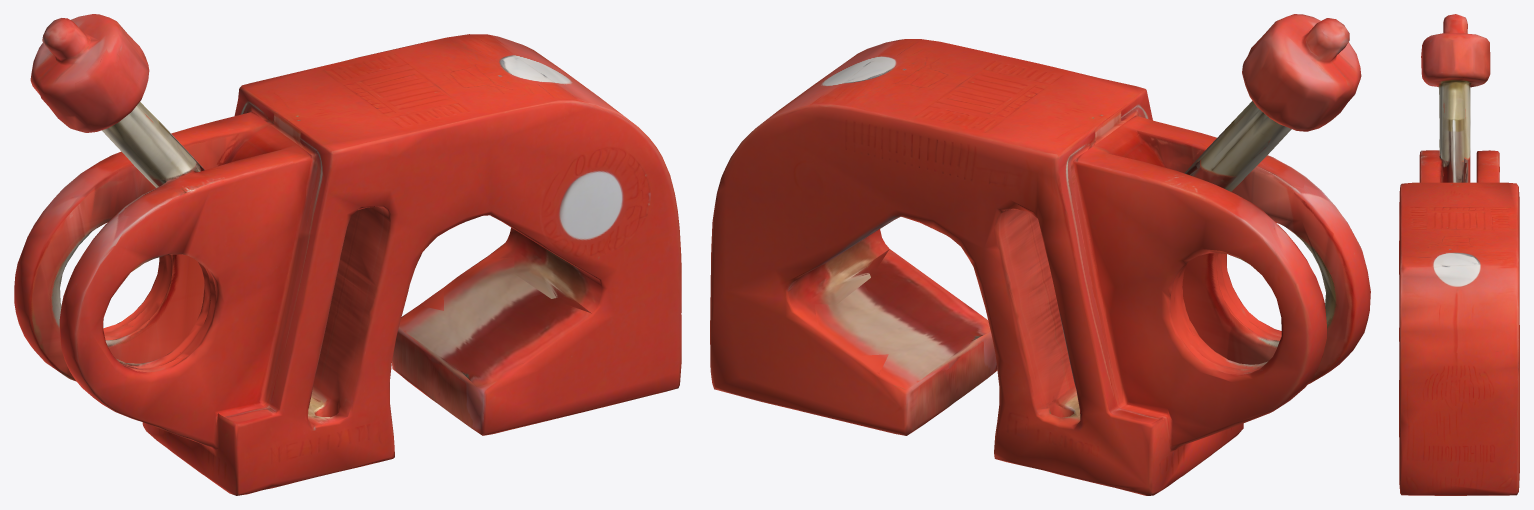
Rendered from lockout.fbx.
The picture shows the model from 3 angles, left to right: view 1: azimuth 30°, elevation 25°; view 2: azimuth 150°, elevation 25°; view 3: azimuth 270°, elevation 25°; orthographic projection. The views are drawn at different scales.
Parts seen in each view (by area): view 1: Mesh_0.001; view 2: Mesh_0.001; view 3: Mesh_0.001.
Part boxes in pixels (left/top/right/bottom): Mesh_0.001: left=14, top=14, right=681, bottom=495; Mesh_0.001: left=710, top=14, right=1370, bottom=495; Mesh_0.001: left=1399, top=14, right=1519, bottom=495.
Size of the model in its own units: 200 by 151 by 54.52.
